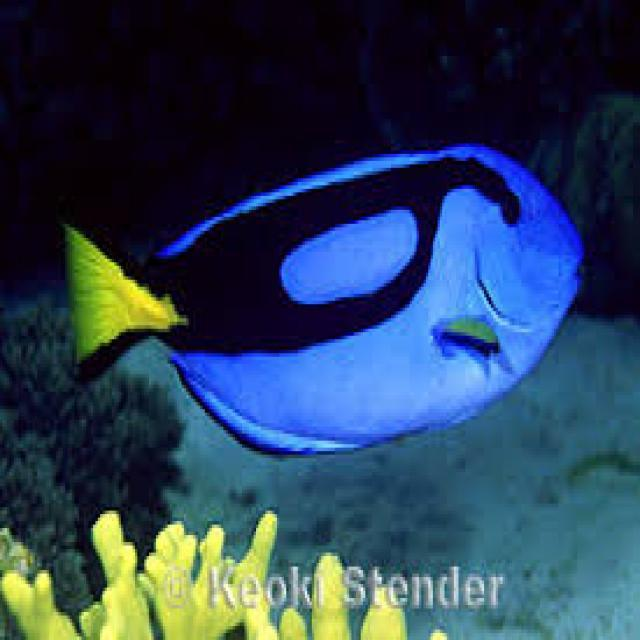TangFish: (62, 139, 584, 458)
